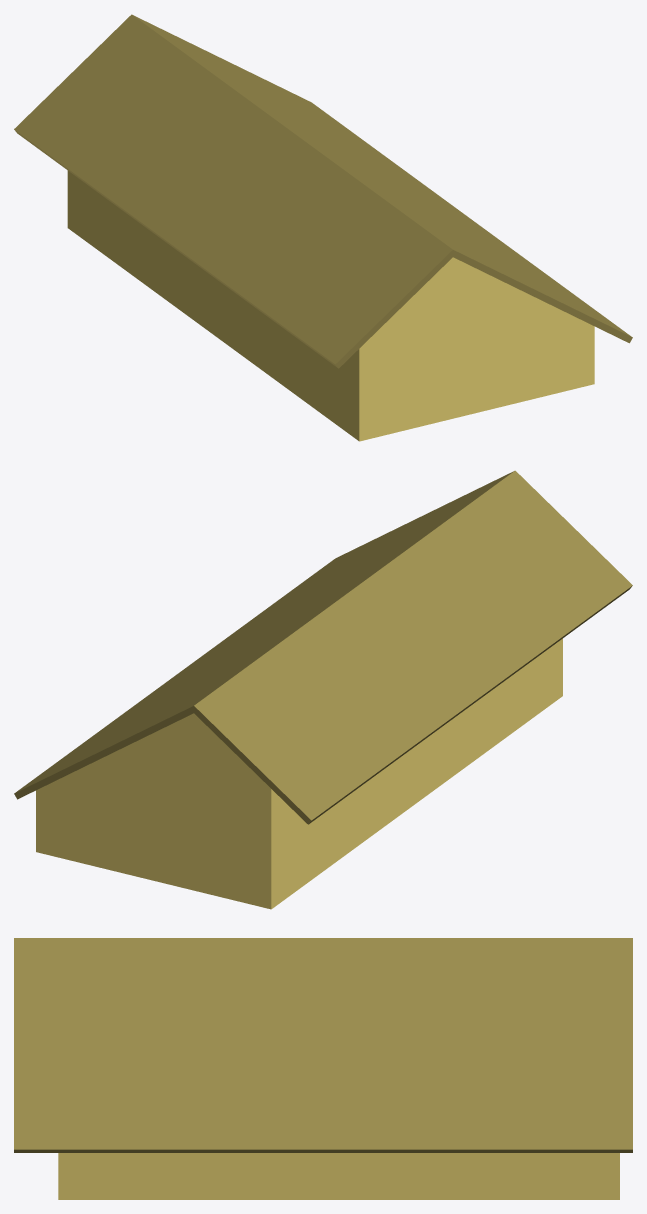
File: result.glb
The picture shows the model from 3 angles, top to bottom: view 1: azimuth 30°, elevation 25°; view 2: azimuth 150°, elevation 25°; view 3: azimuth 270°, elevation 25°; orthographic projection. The views are drawn at different scales.
Parts seen in each view (by area): view 1: 39596e9c-53eb-49e2-93d2-e49ac140b78b__undefined (×2), 7f979719-f317-4882-af25-c91265136541__undefined; view 2: 39596e9c-53eb-49e2-93d2-e49ac140b78b__undefined (×2), 7f979719-f317-4882-af25-c91265136541__undefined; view 3: 39596e9c-53eb-49e2-93d2-e49ac140b78b__undefined, 7f979719-f317-4882-af25-c91265136541__undefined.
Part boxes in pixels (<box>): 39596e9c-53eb-49e2-93d2-e49ac140b78b__undefined (×2): <box>14,14,632,368</box>; 7f979719-f317-4882-af25-c91265136541__undefined: <box>67,170,594,441</box>; 39596e9c-53eb-49e2-93d2-e49ac140b78b__undefined (×2): <box>14,470,632,824</box>; 7f979719-f317-4882-af25-c91265136541__undefined: <box>36,638,562,909</box>; 39596e9c-53eb-49e2-93d2-e49ac140b78b__undefined: <box>14,938,632,1152</box>; 7f979719-f317-4882-af25-c91265136541__undefined: <box>58,1153,619,1199</box>.
Bounding box in the file's own units: 1262 × 776 × 2360.
